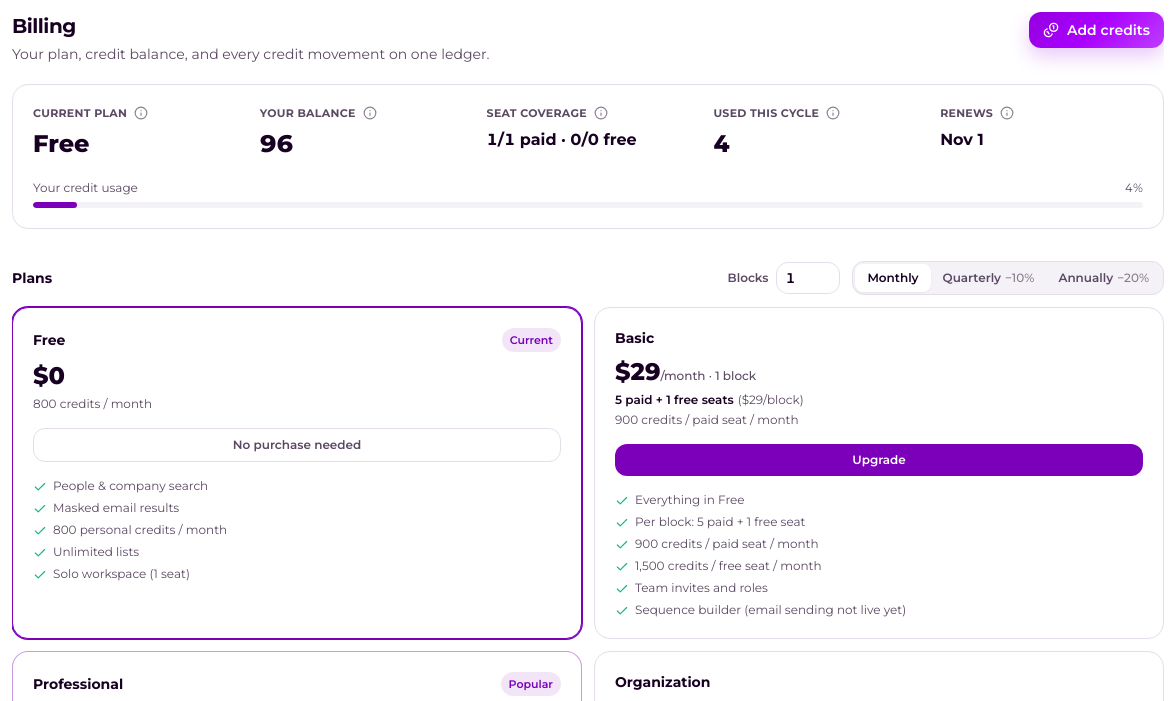
Test: Billing › shows an error message when starting checkout fails
The width and height of the screenshot is (1176, 701).
Expected: the text "Current" is shown, x1=502 y1=328 x2=561 y2=352
Click the button "Upgrade" at (879, 460), box x1=615 y1=444 x2=1143 y2=476
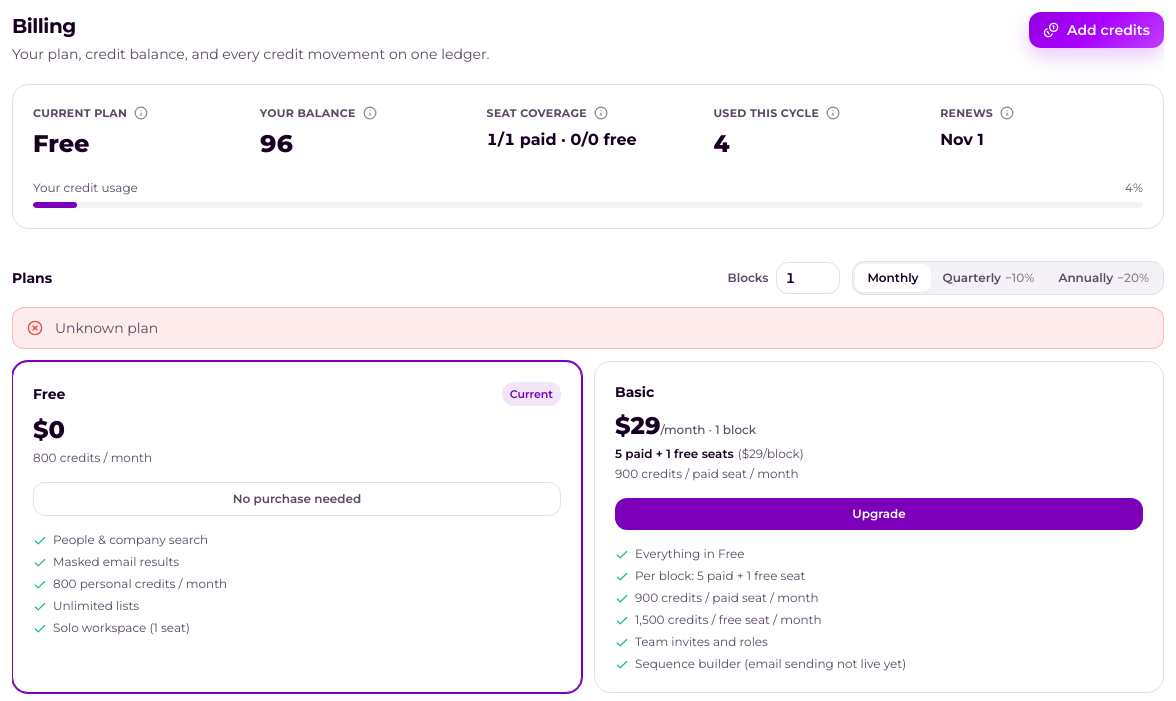
Expected: the text "Unknown plan" is shown, x1=55 y1=318 x2=158 y2=336
